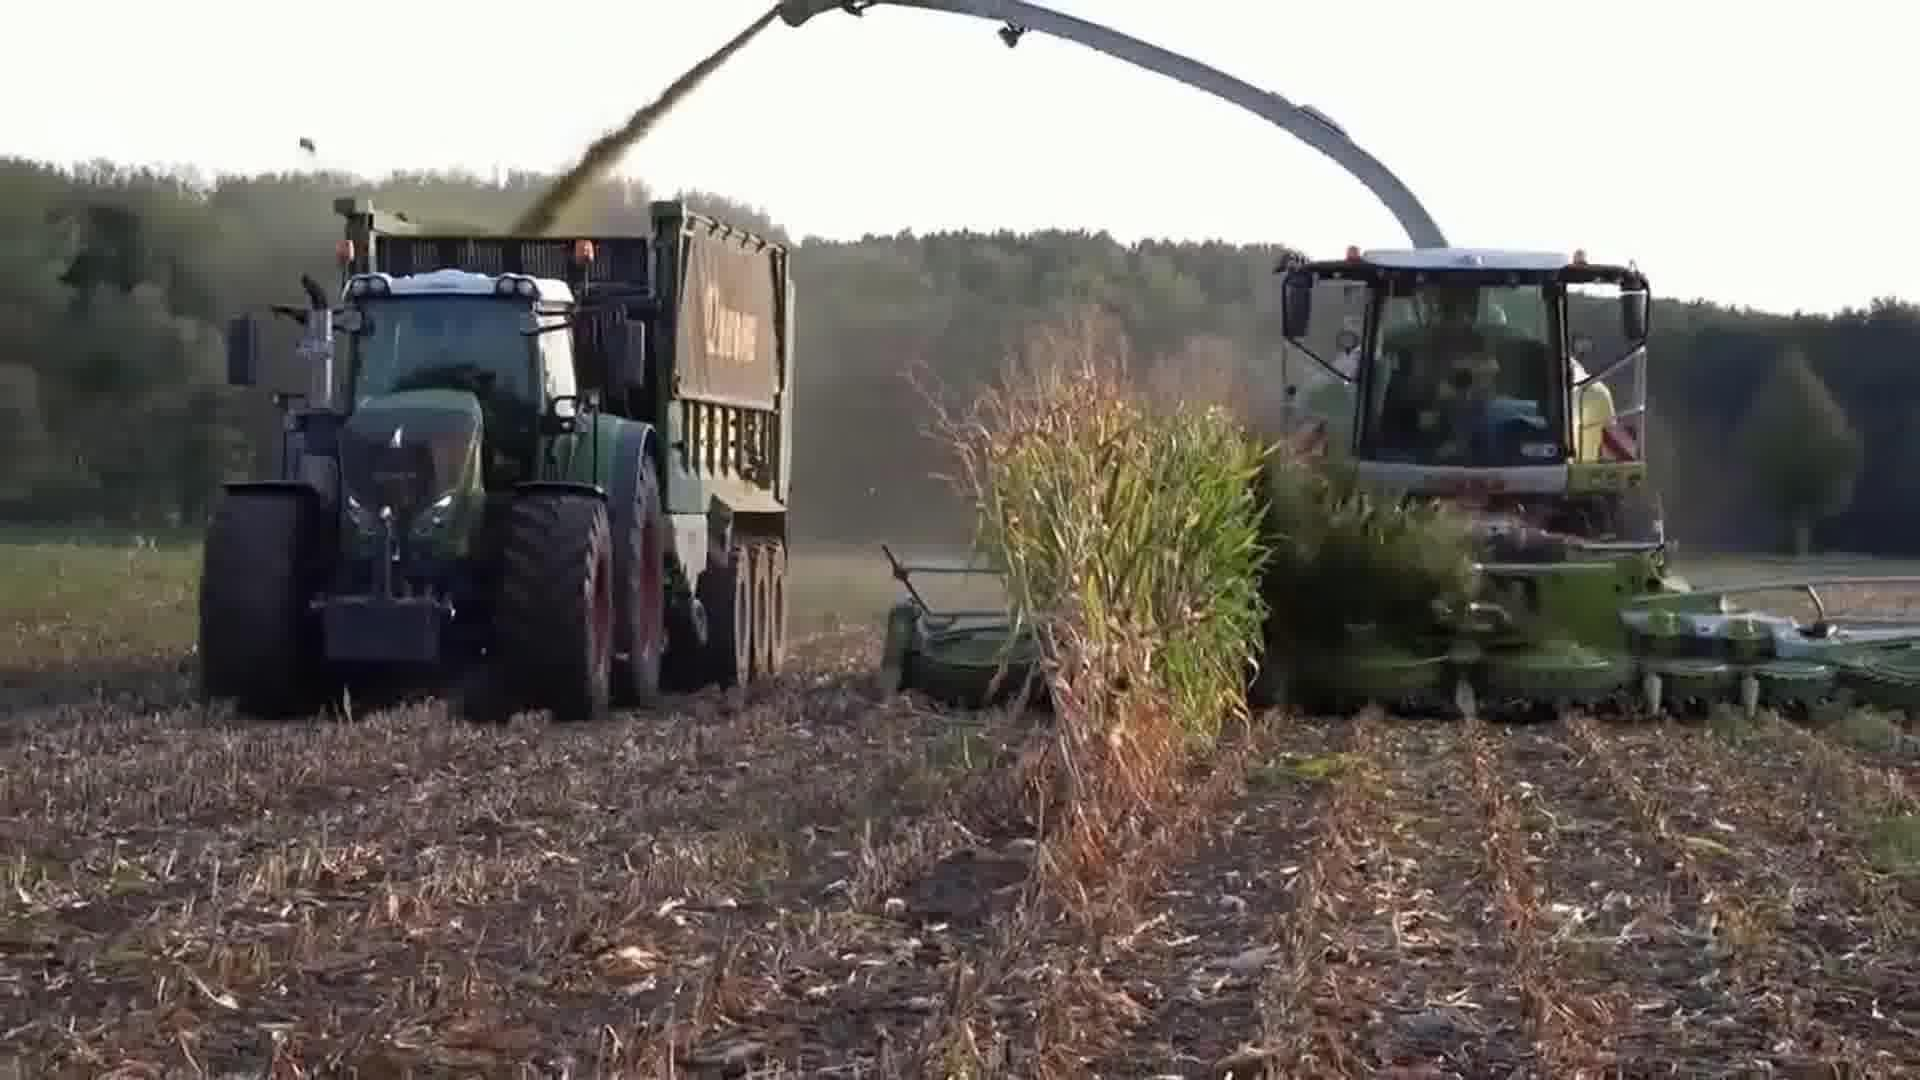combine harvester: (777, 0, 1920, 739)
tractor: (189, 231, 677, 730)
trailer: (310, 193, 804, 693)
